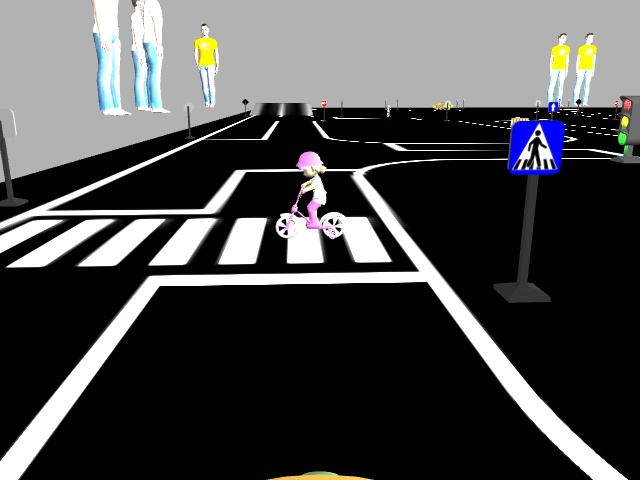Crosswalk: (509, 120, 563, 173)
Pedestrian: (274, 151, 347, 239)
TrafficLight: (617, 91, 638, 146)
